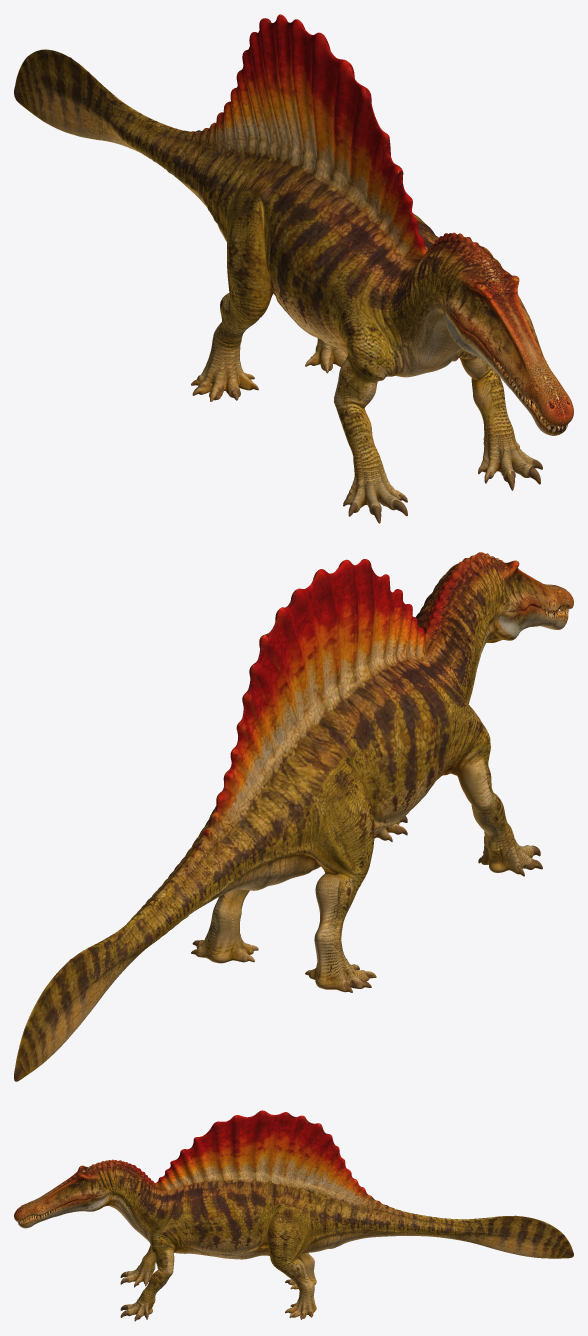
File: spinosaurus.glb
3 renders of one model, top to bottom at view 1: azimuth 30°, elevation 25°; view 2: azimuth 150°, elevation 25°; view 3: azimuth 270°, elevation 25°, orthographic. The views are drawn at different scales.
Visible parts, largest first — view 1: spinosaurus; view 2: spinosaurus; view 3: spinosaurus.
Boxes of the visible parts, x1,y1,x2,y2 form: spinosaurus: (14,14,573,523); spinosaurus: (14,552,573,1081); spinosaurus: (14,1110,573,1321).
Bounding box in the file's own units: 2.85 × 5.19 × 14.
Materials: 1 (1 with a texture image).
